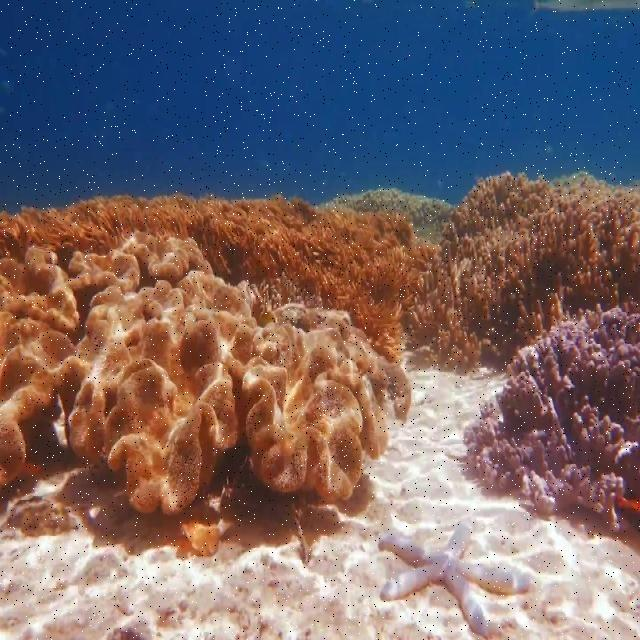reefs: (0, 172, 639, 374), (0, 230, 410, 513), (464, 307, 639, 530), (378, 520, 527, 636)
